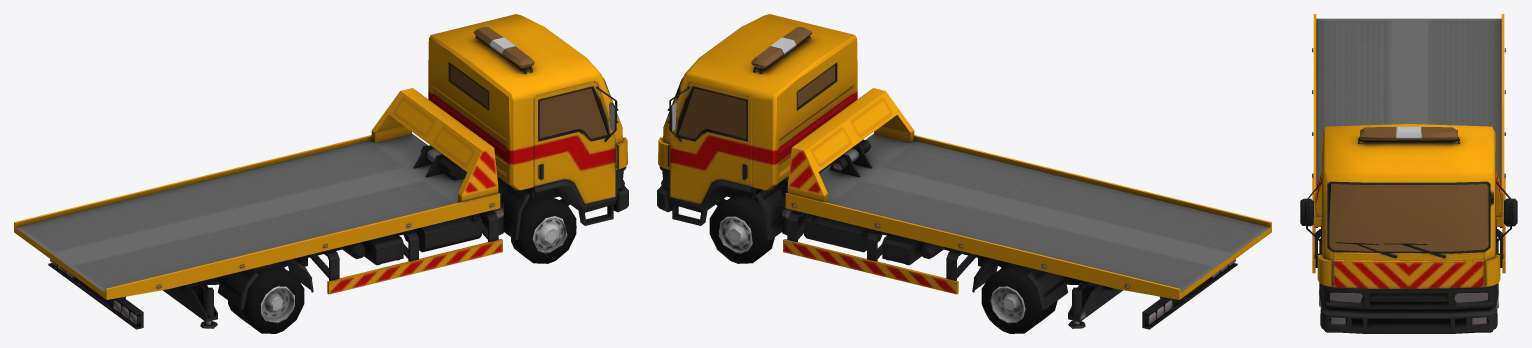
Rendered from civ-tow.lod0.glb.
3 renders of one model, left to right at view 1: azimuth 30°, elevation 25°; view 2: azimuth 150°, elevation 25°; view 3: azimuth 270°, elevation 25°, orthographic. The views are drawn at different scales.
Parts seen in each view (by area): view 1: towtruck_towtruck_0, towtruck_towtruck_glass_0; view 2: towtruck_towtruck_0, towtruck_towtruck_glass_0; view 3: towtruck_towtruck_0, towtruck_towtruck_glass_0.
Boxes of the visible parts, left/top/right/bottom form: towtruck_towtruck_0: left=14, top=14, right=628, bottom=333; towtruck_towtruck_glass_0: left=50, top=27, right=607, bottom=324; towtruck_towtruck_0: left=657, top=14, right=1271, bottom=333; towtruck_towtruck_glass_0: left=678, top=27, right=1235, bottom=324; towtruck_towtruck_0: left=1300, top=14, right=1517, bottom=333; towtruck_towtruck_glass_0: left=1312, top=48, right=1505, bottom=324.
Size of the model in its own units: 6.93 by 2.39 by 2.38.
2 materials, 1 textured.
